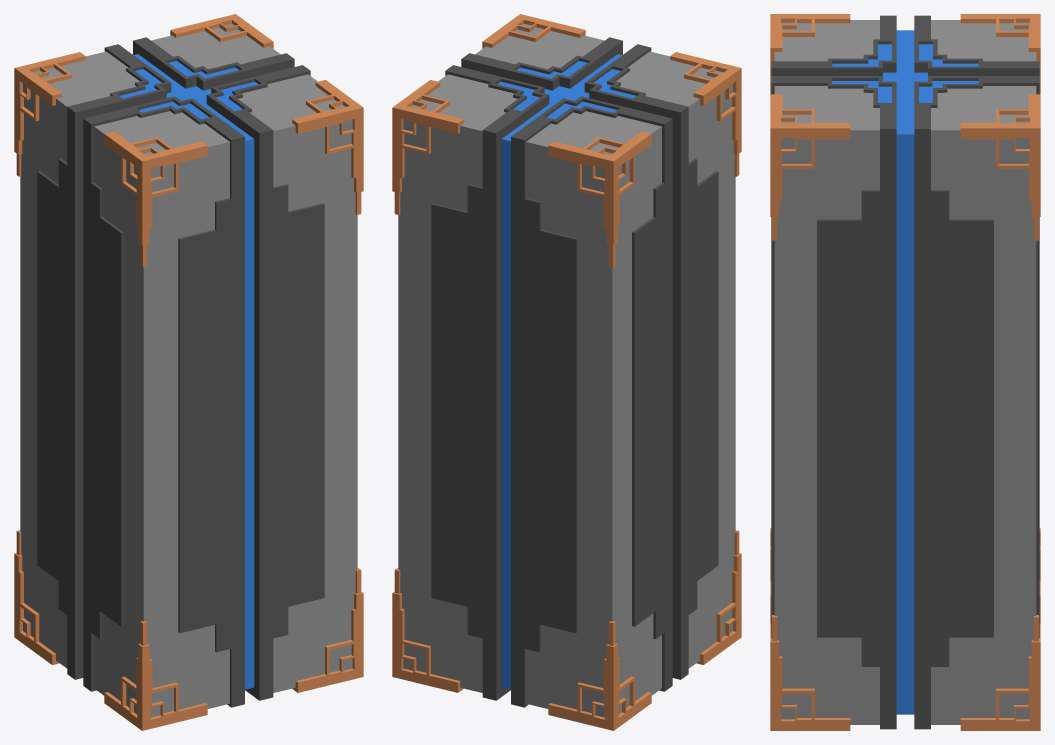
The model's file is SM_FMovingPlatform_02.FBX.
The picture shows the model from 3 angles, left to right: view 1: azimuth 30°, elevation 25°; view 2: azimuth 150°, elevation 25°; view 3: azimuth 270°, elevation 25°; orthographic projection. The views are drawn at different scales.
Parts seen in each view (by area): view 1: SM_MovingPlatform_006; view 2: SM_MovingPlatform_006; view 3: SM_MovingPlatform_006.
Part boxes in pixels (bbox=[...]): SM_MovingPlatform_006: bbox=[14, 14, 363, 730]; SM_MovingPlatform_006: bbox=[392, 14, 741, 730]; SM_MovingPlatform_006: bbox=[770, 14, 1040, 730].
Bounding box in the file's own units: 207 × 509 × 207.
